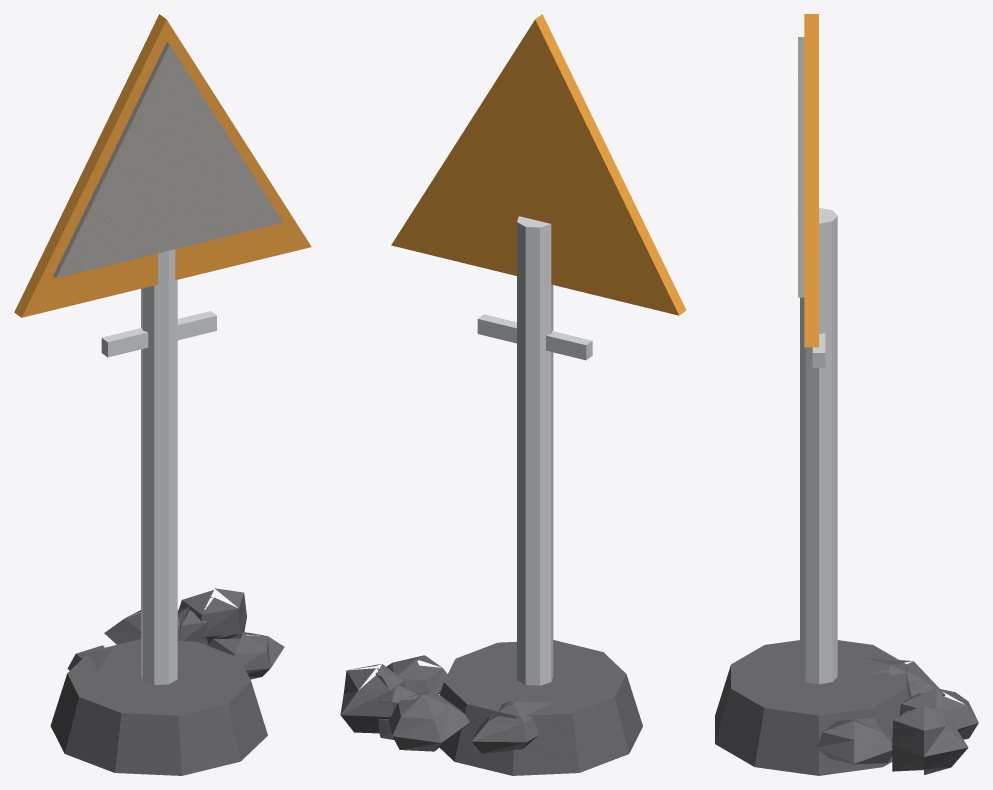
File: volcano-and-lava-fields-volcano-and-lava-fields-warnin-1c245553__37486.glb
3 renders of one model, left to right at view 1: azimuth 30°, elevation 25°; view 2: azimuth 150°, elevation 25°; view 3: azimuth 270°, elevation 25°, orthographic.
Visible parts, largest first — view 1: volcano-and-lava-fields-warning-sign-blank-face; view 2: volcano-and-lava-fields-warning-sign-blank-face; view 3: volcano-and-lava-fields-warning-sign-blank-face.
Part boxes in pixels (box(x1,y1,x2,y2)): volcano-and-lava-fields-warning-sign-blank-face: box(14, 14, 311, 775); volcano-and-lava-fields-warning-sign-blank-face: box(340, 14, 686, 775); volcano-and-lava-fields-warning-sign-blank-face: box(715, 14, 978, 775).
Size of the model in its own units: 0.7967 by 1.88 by 0.6282.
Materials: 4 (2 with a texture image).
